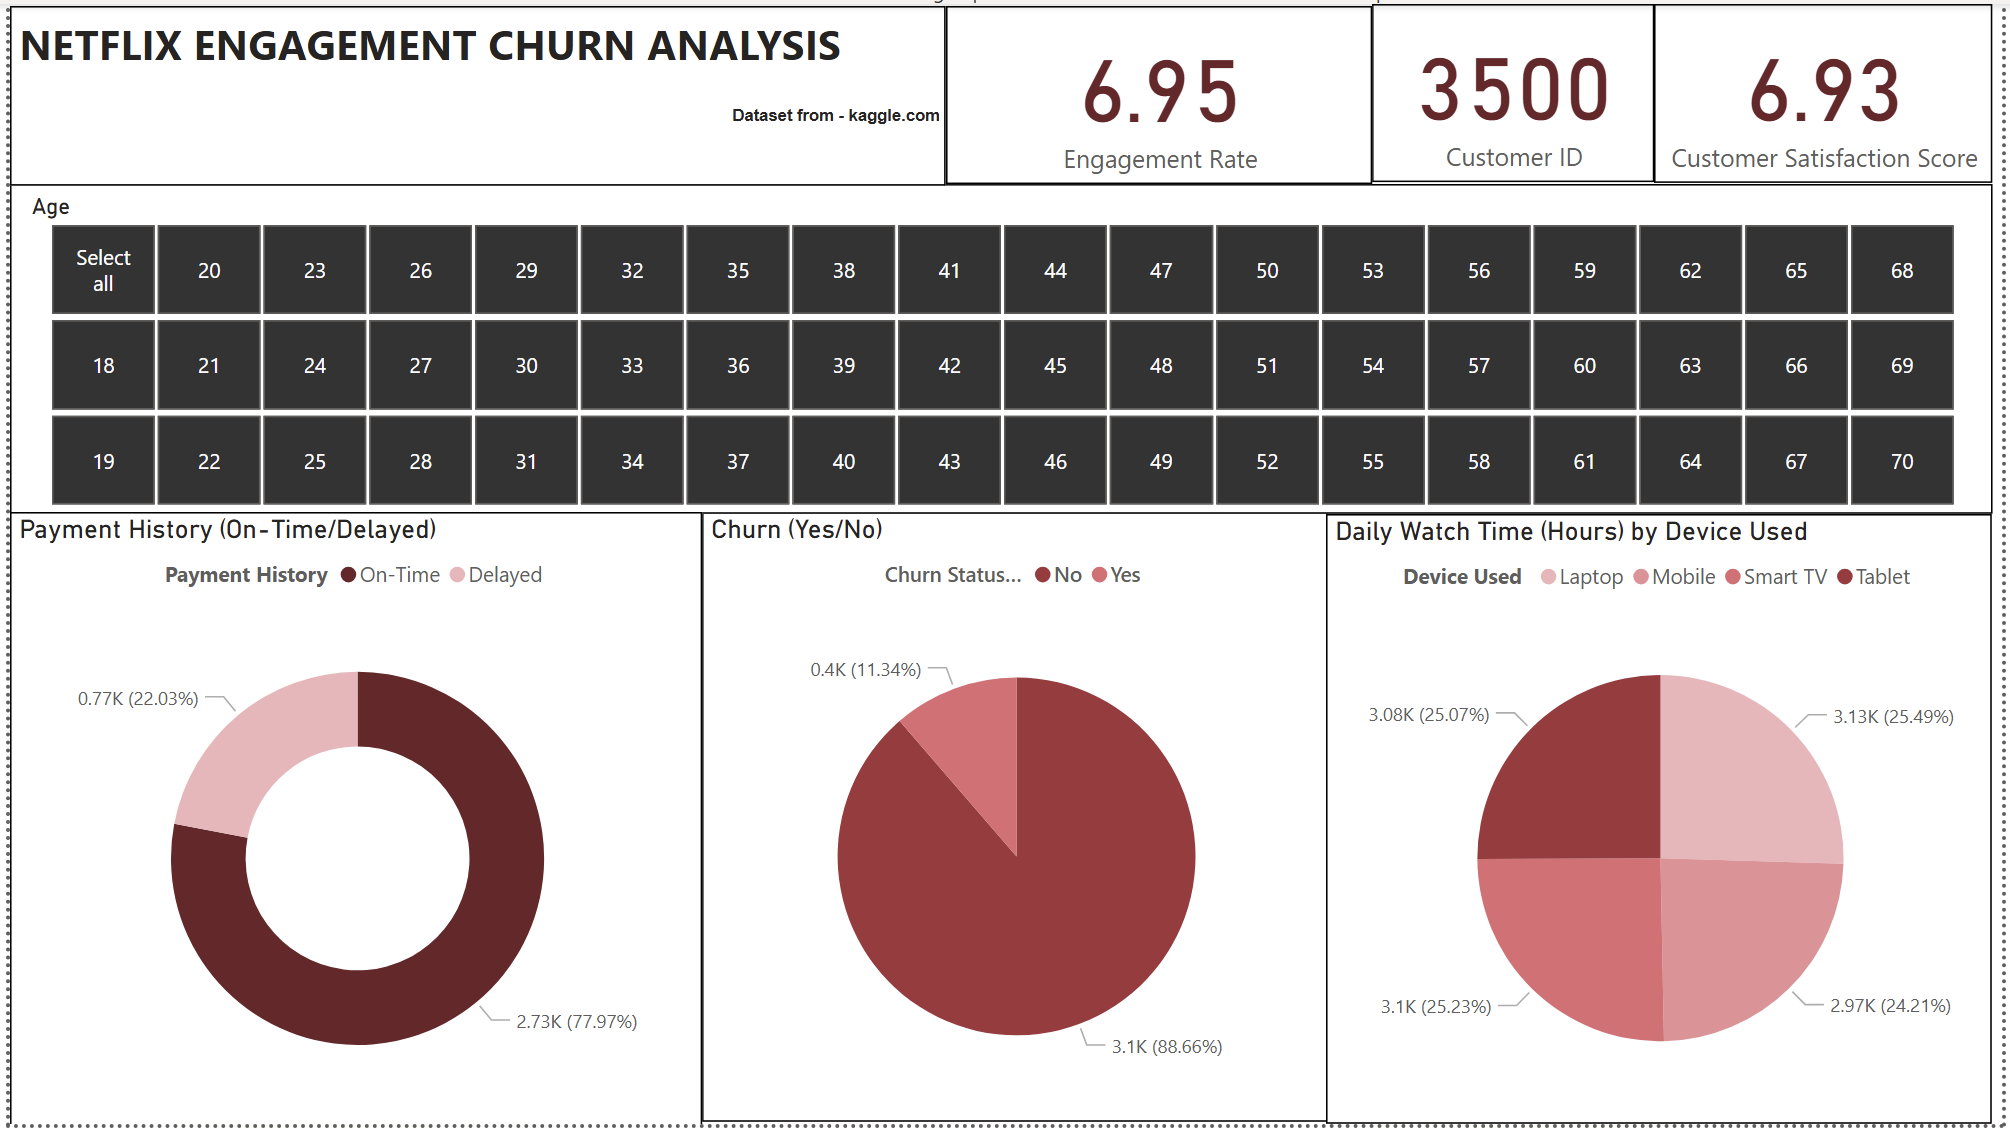

The dashboard page shown, as its layout file describes it:
{"tool":"powerbi","page":{"name":"Page 1","canvas":[1280,720],"ordinal":0},"visuals":[{"type":"pieChart","title":"Churn (Yes/No)","fields":{"Category":["Netflix Engagement Dataset.Churn Status (Yes/No)"],"Y":["CountNonNull(Netflix Engagement Dataset.Customer ID)"]},"box":[444.9,326.6,402.4,392.1],"z":0},{"type":"slicer","fields":{"Values":["Netflix Engagement Dataset.Age"]},"box":[0,115.1,1274.4,211.9],"z":1},{"type":"donutChart","title":"Payment History (On-Time/Delayed)","fields":{"Category":["Netflix Engagement Dataset.Payment History (On-Time/Delayed)"],"Y":["CountNonNull(Netflix Engagement Dataset.Customer ID)"]},"box":[0,326.6,444.9,394.7],"z":2},{"type":"pieChart","title":"Daily Watch Time (Hours) by Device Used","fields":{"Y":["Sum(Netflix Engagement Dataset.Daily Watch Time (Hours))"],"Series":["Netflix Engagement Dataset.Device Used Most Often"]},"box":[846,327.5,428,391.8],"z":3},{"type":"textbox","box":[0,1.3,601.7,115.7],"z":4},{"type":"card","fields":{"Values":["CountNonNull(Netflix Engagement Dataset.Customer ID)"]},"box":[875.6,0,181.3,114.4],"z":5},{"type":"card","fields":{"Values":["Avg(Netflix Engagement Dataset.Customer Satisfaction Score (1-10))"]},"box":[1056.8,0,217.5,115.1],"z":6},{"type":"card","fields":{"Values":["Avg(Netflix Engagement Dataset.Engagement Rate (1-10))"]},"box":[601.7,1.3,273.9,114.4],"z":7}]}

Visuals, with their boxes in screenshot pixels (x1, y1, x2, y2), scaled from the page's 1280x720 canvas onto the 2010x1130 screenshot:
"Churn (Yes/No)" pieChart: crop(699, 513, 1331, 1128)
slicer - Netflix Engagement Dataset.Age: crop(0, 181, 2001, 513)
"Payment History (On-Time/Delayed)" donutChart: crop(0, 513, 699, 1129)
"Daily Watch Time (Hours) by Device Used" pieChart: crop(1328, 514, 2001, 1129)
textbox: crop(0, 2, 945, 184)
card - CountNonNull(Netflix Engagement Dataset.Customer ID): crop(1375, 0, 1660, 180)
card - Avg(Netflix Engagement Dataset.Customer Satisfaction Score (1-10)): crop(1660, 0, 2001, 181)
card - Avg(Netflix Engagement Dataset.Engagement Rate (1-10)): crop(945, 2, 1375, 182)
